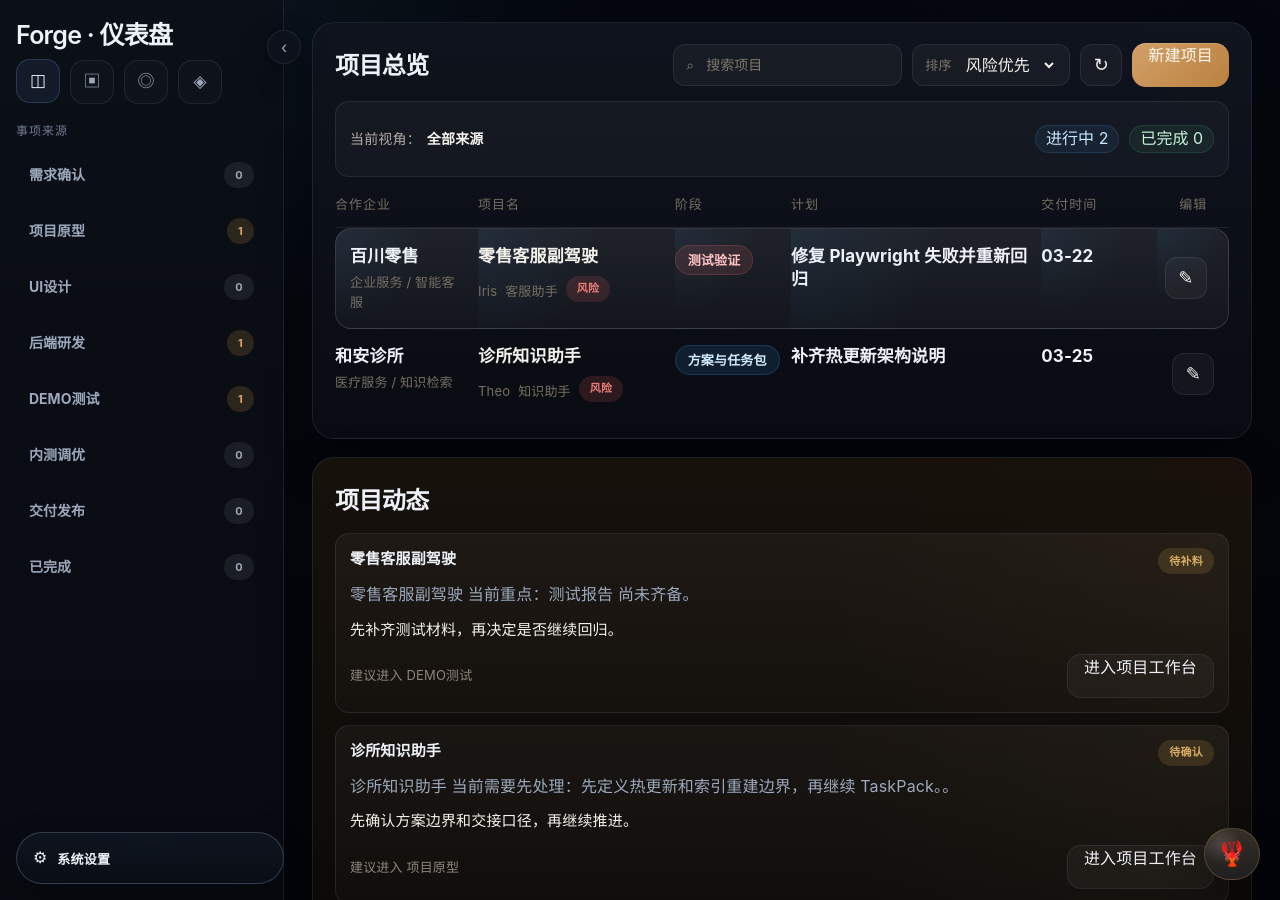
Forge home page › keeps source-stage filtering active while searching
This screenshot has width=1280, height=900.
Step 1. Click the button "项目原型 1" → (142, 231), box x1=16 y1=206 x2=267 y2=256
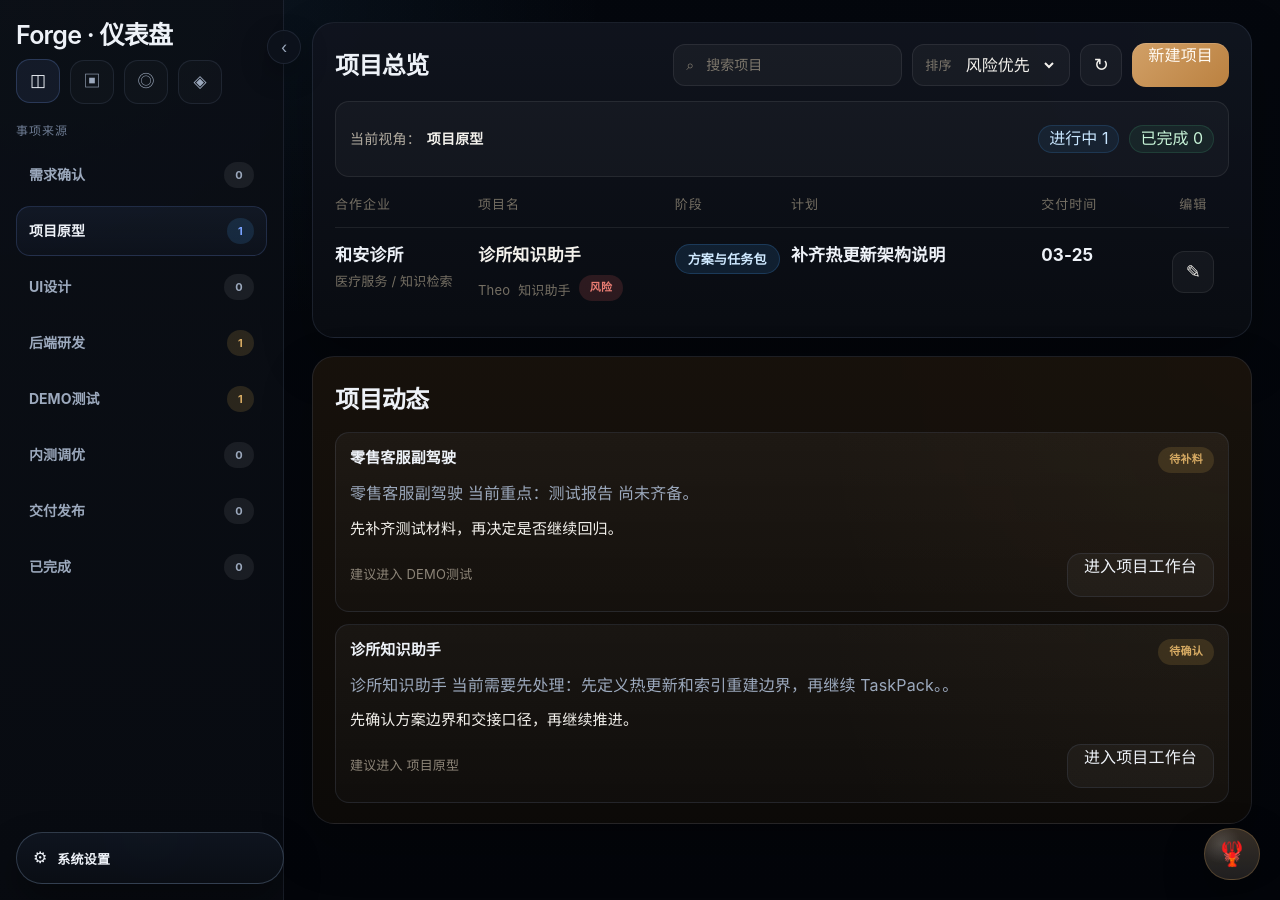
Step 2. Type "零售" into the search field named "搜索项目" → (797, 65), box x1=704 y1=56 x2=889 y2=74
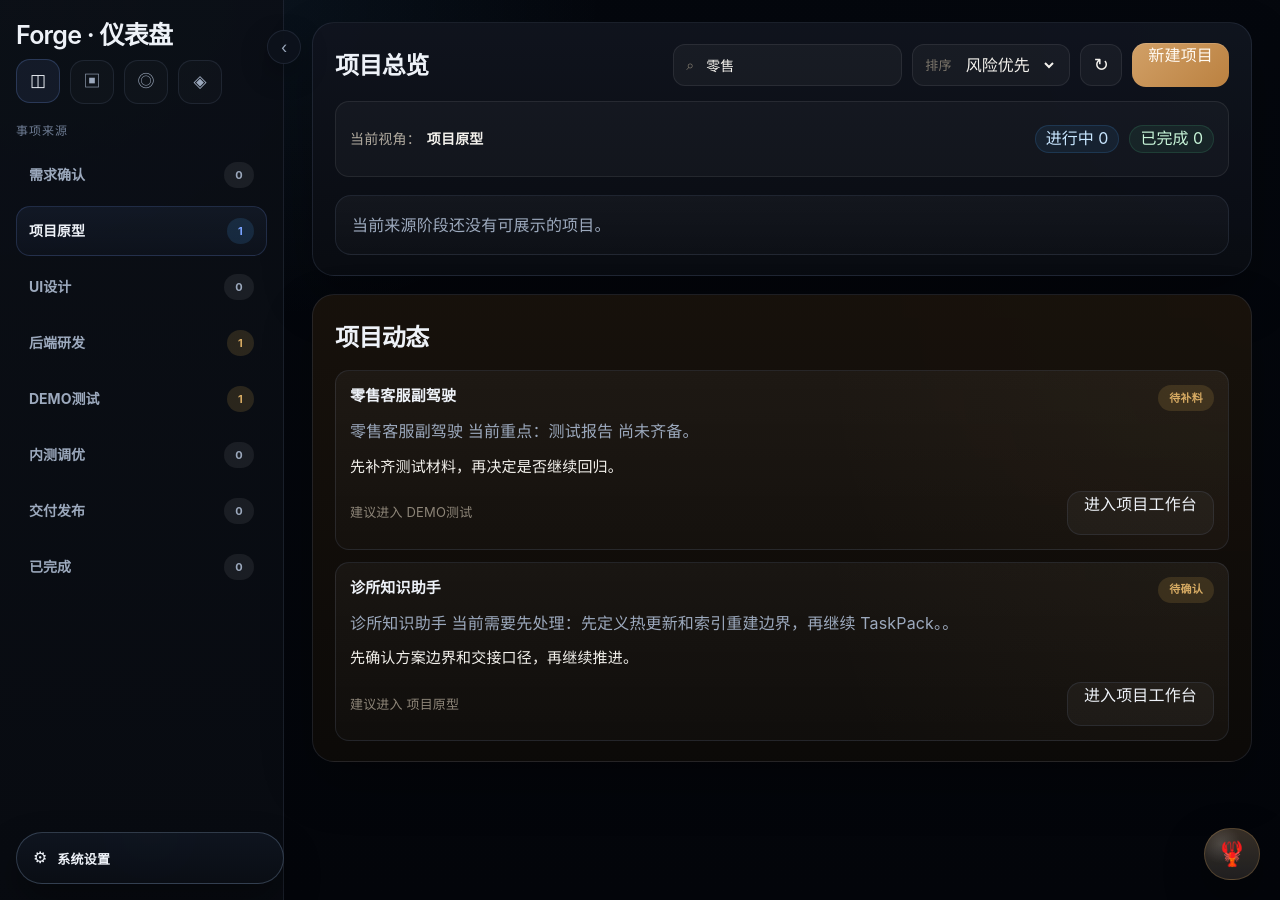
Expected: the text "当前来源阶段还没有可展示的项目。" is shown, x1=352 y1=215 x2=611 y2=235
